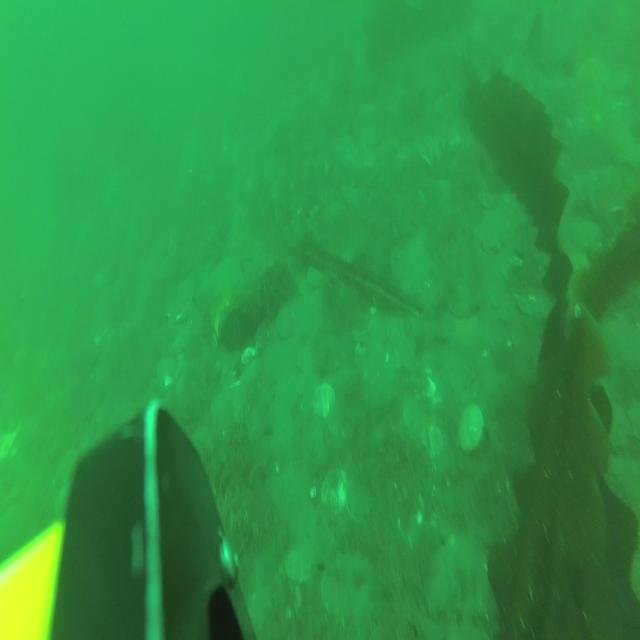scallop: (321, 555, 367, 617), (520, 280, 552, 322), (321, 466, 350, 512), (282, 545, 316, 584), (460, 405, 485, 455), (310, 382, 336, 426), (480, 209, 505, 252), (572, 220, 602, 250), (274, 304, 295, 338), (178, 276, 194, 304)
